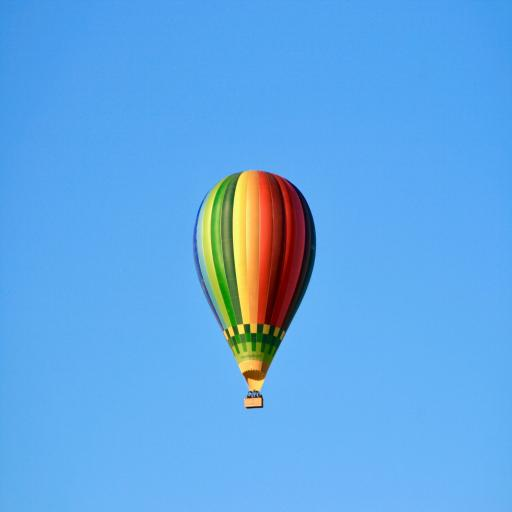hot air ballon: (192, 165, 320, 418)
